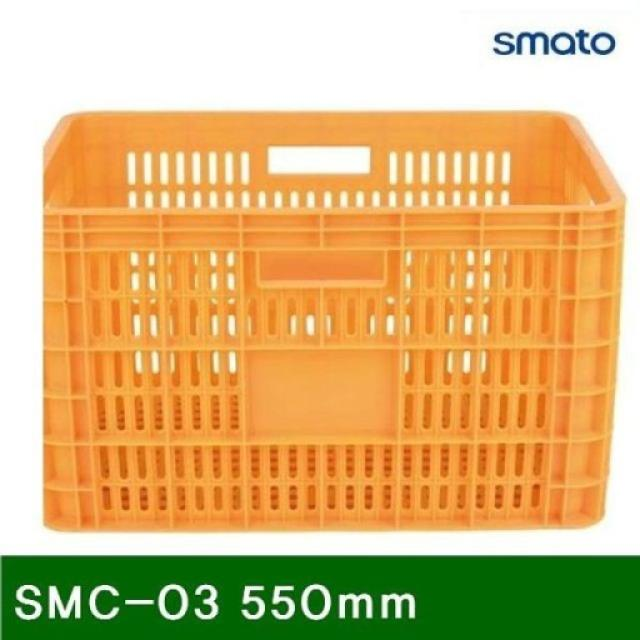basket: (44, 111, 627, 531)
